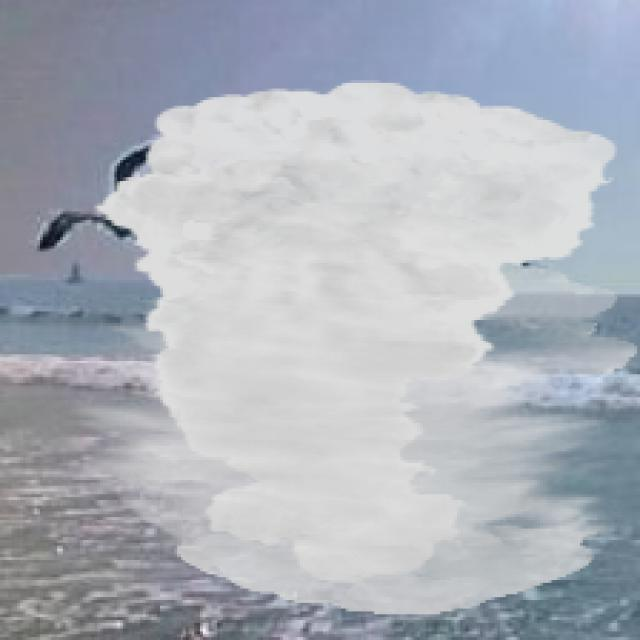smoke: (72, 80, 637, 614)
